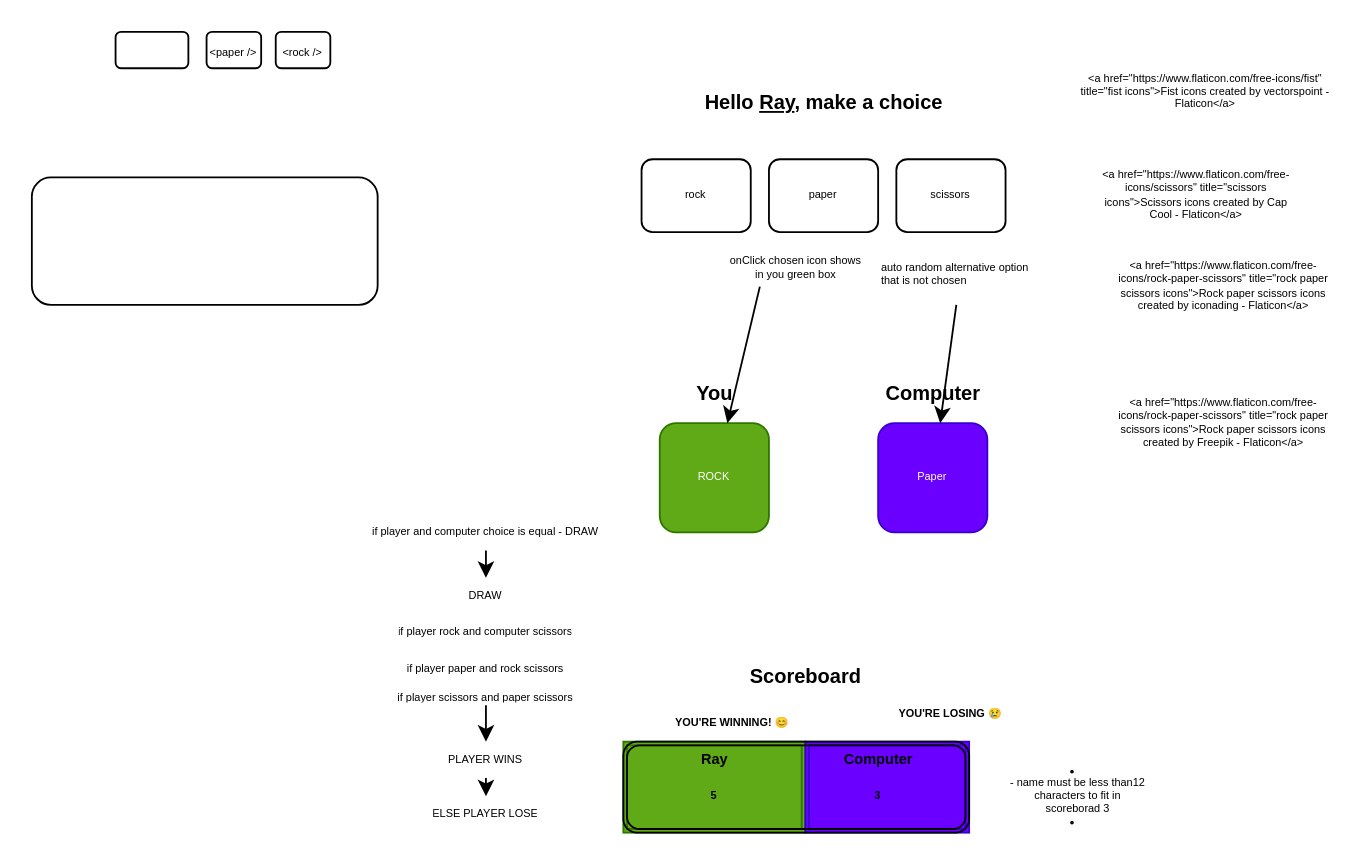
This 1365x865 diagram has some shape labels left out. The shapes that lost their labels are listed below. From the top down, each one's centre as x and y in pixels, then its label:
At (x=151, y=49): "<scissors />".
At (x=204, y=240): "App.jsx".
